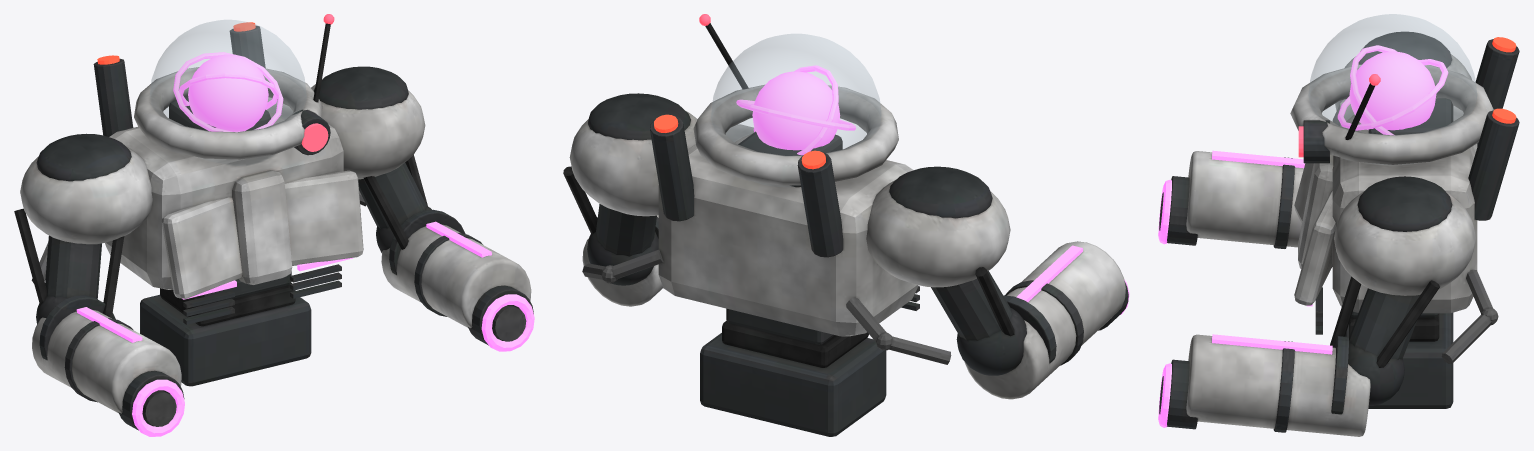
The model's file is caretaker-mech.glb.
The picture shows the model from 3 angles, left to right: view 1: azimuth 30°, elevation 25°; view 2: azimuth 150°, elevation 25°; view 3: azimuth 270°, elevation 25°; orthographic projection. The views are drawn at different scales.
Visible parts, largest first — view 1: caretaker-mech, caretaker-mech_dome_glass, caretaker-mech_caretaker_pink, caretaker-mech_caretaker_eye; view 2: caretaker-mech, caretaker-mech_dome_glass, caretaker-mech_caretaker_pink, caretaker-mech_red_eye; view 3: caretaker-mech, caretaker-mech_dome_glass, caretaker-mech_caretaker_pink, caretaker-mech_red_eye.
Part boxes in pixels (x1=…): caretaker-mech: x1=14, y1=23, x2=533, y2=430; caretaker-mech_dome_glass: x1=150, y1=20, x2=306, y2=165; caretaker-mech_caretaker_pink: x1=76, y1=52, x2=534, y2=436; caretaker-mech_caretaker_eye: x1=301, y1=14, x2=334, y2=151; caretaker-mech: x1=563, y1=23, x2=1128, y2=436; caretaker-mech_dome_glass: x1=711, y1=34, x2=880, y2=186; caretaker-mech_caretaker_pink: x1=736, y1=65, x2=1129, y2=314; caretaker-mech_red_eye: x1=654, y1=114, x2=825, y2=169; caretaker-mech: x1=1159, y1=31, x2=1519, y2=436; caretaker-mech_dome_glass: x1=1308, y1=14, x2=1476, y2=164; caretaker-mech_caretaker_pink: x1=1158, y1=45, x2=1448, y2=427; caretaker-mech_red_eye: x1=1492, y1=37, x2=1516, y2=123.
Bounding box in the file's own units: 4.36 × 3.26 × 2.99.
Materials: 5 (1 with a texture image).
